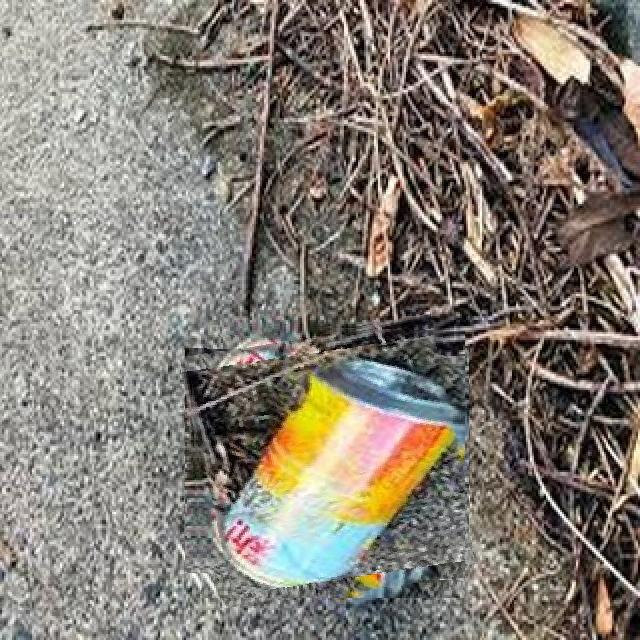recyclable: (189, 323, 465, 598)
